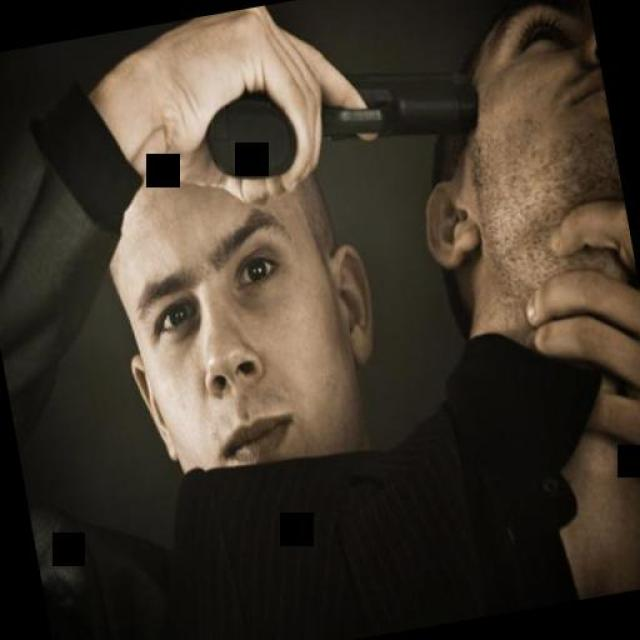gun: (194, 42, 484, 178)
